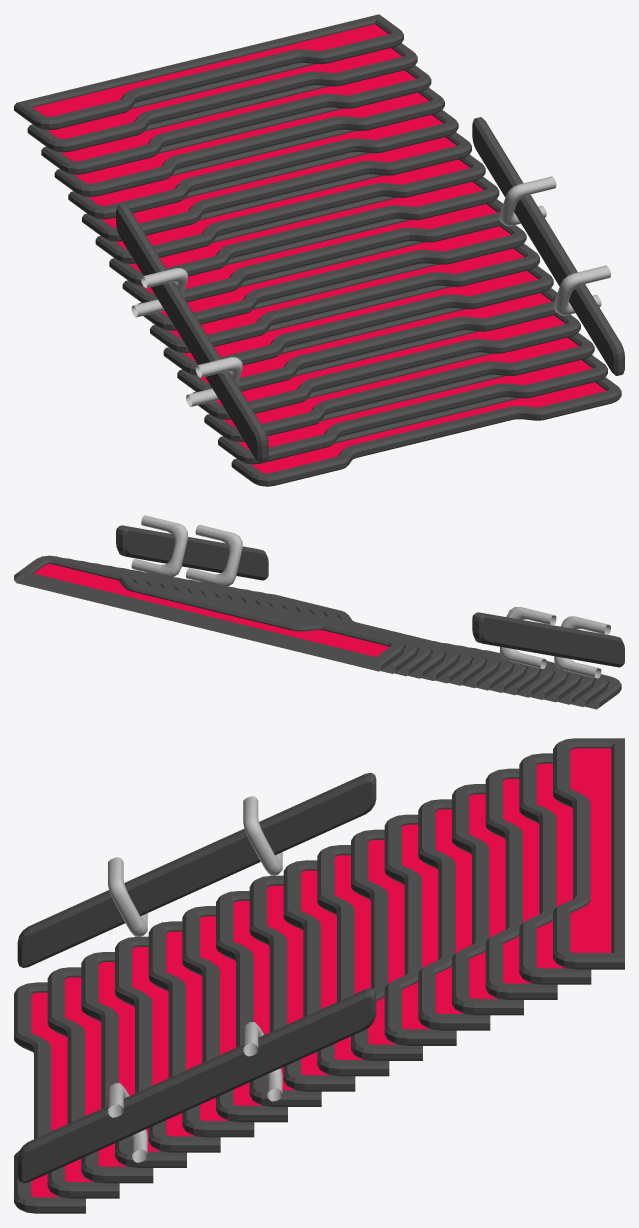
File: MB_Stairs_Single.fbx
3 renders of one model, top to bottom at view 1: azimuth 30°, elevation 25°; view 2: azimuth 150°, elevation 25°; view 3: azimuth 270°, elevation 25°, orthographic. The views are drawn at different scales.
Visible parts, largest first — view 1: Cube.6281; view 2: Cube.6281; view 3: Cube.6281.
Part boxes in pixels (x1,y1,x2,y2): Cube.6281: (14,14,624,486); Cube.6281: (14,515,624,709); Cube.6281: (14,738,624,1213).
Bounding box in the file's own units: 8.68 × 4.2 × 9.07.
